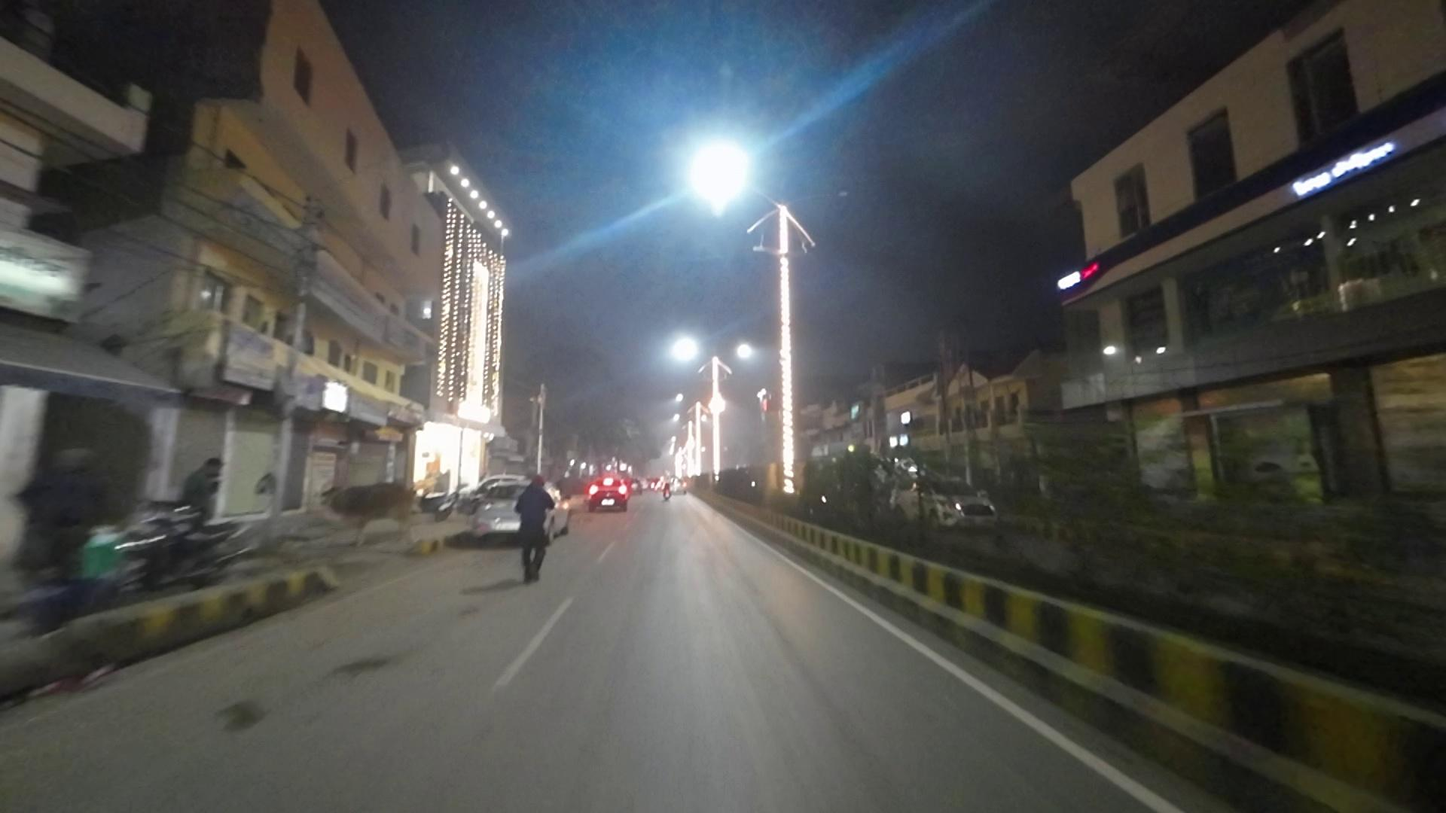streetlight: (796, 189, 849, 204)
